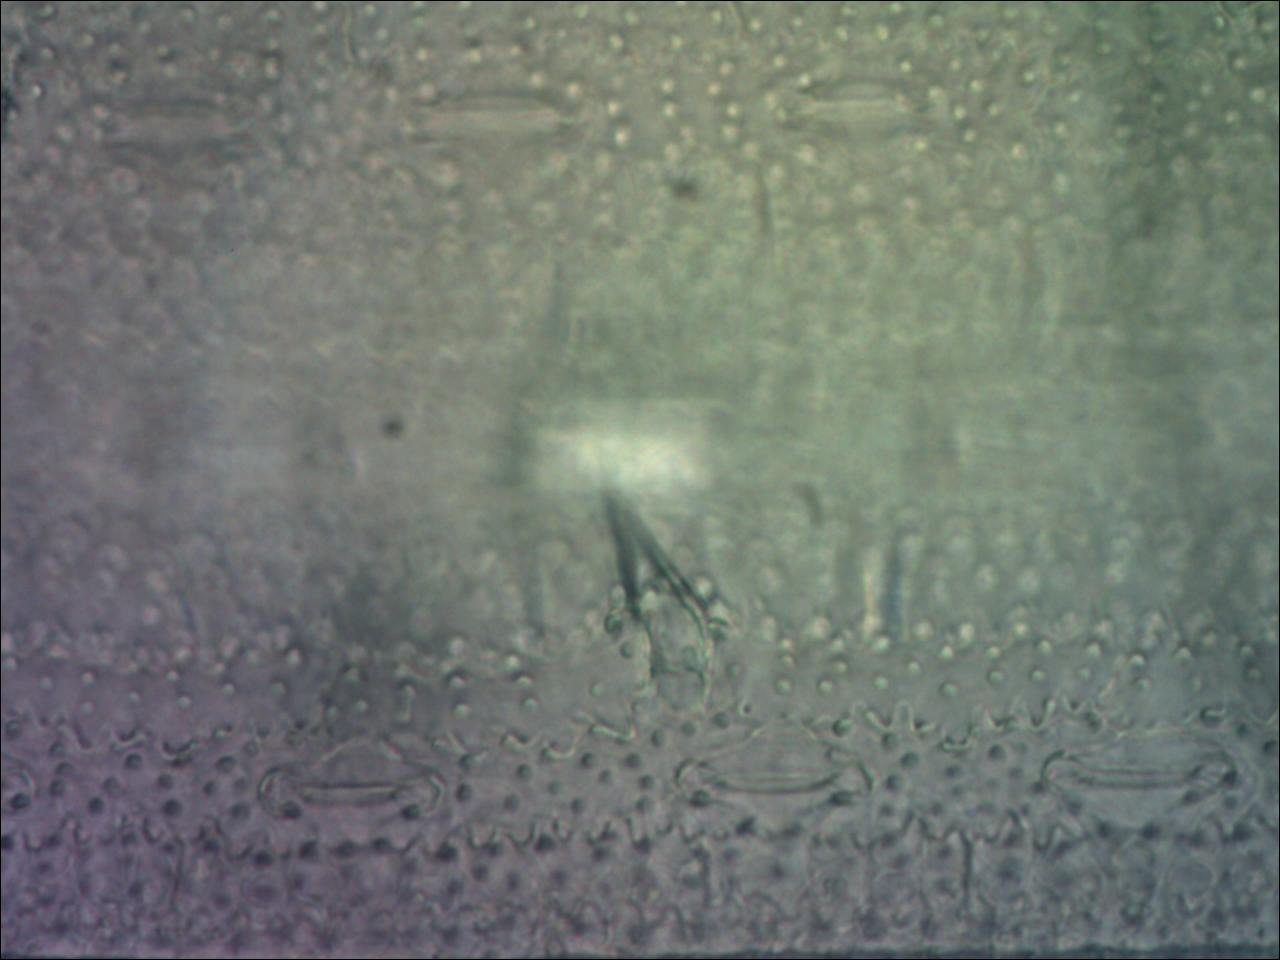stoma: (1043, 720, 1237, 836), (677, 727, 869, 831), (253, 739, 447, 841), (88, 84, 274, 187), (399, 67, 588, 165), (779, 58, 942, 151)
